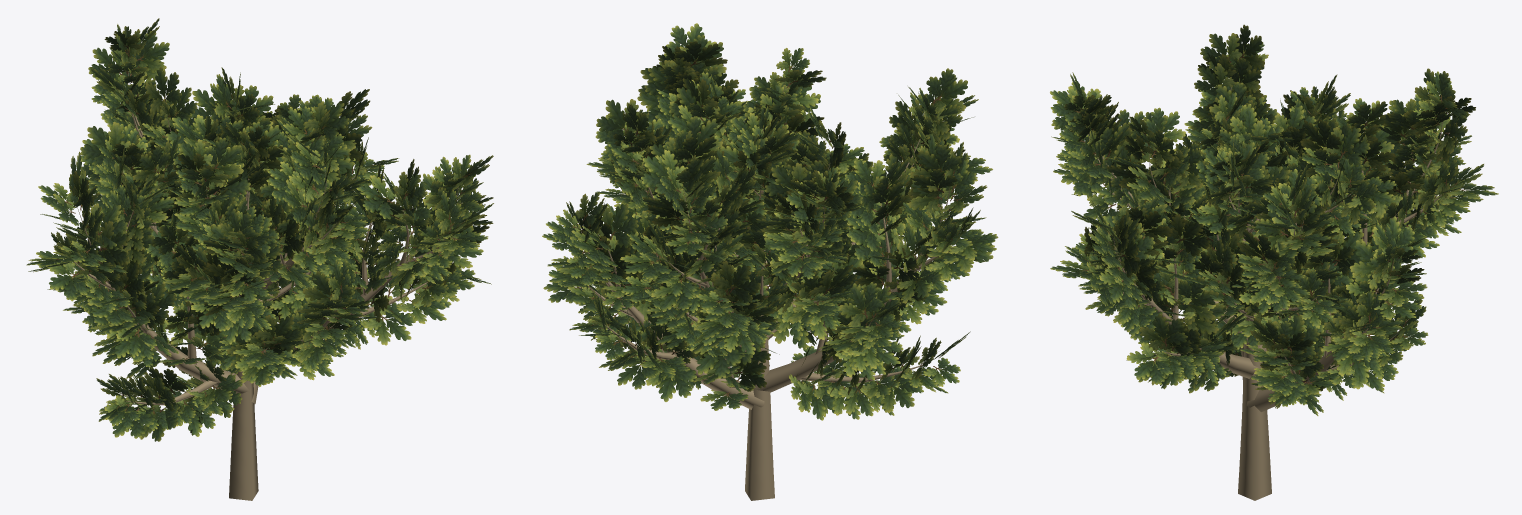
Rendered from cincis-oak-cluster-v2.glb.
3 renders of one model, left to right at view 1: azimuth 30°, elevation 25°; view 2: azimuth 150°, elevation 25°; view 3: azimuth 270°, elevation 25°, orthographic.
Parts seen in each view (by area): view 1: leaves, tree; view 2: leaves, tree; view 3: leaves, tree.
Part boxes in pixels (x1,y1,x2,y2): leaves: (26,18,493,441); tree: (74,56,458,500); leaves: (542,23,998,420); tree: (580,84,950,500); leaves: (1050,24,1498,415); tree: (1088,87,1442,500).
Bounding box in the file's own units: 9.62 × 9.05 × 9.19.
2 materials, 1 textured.
